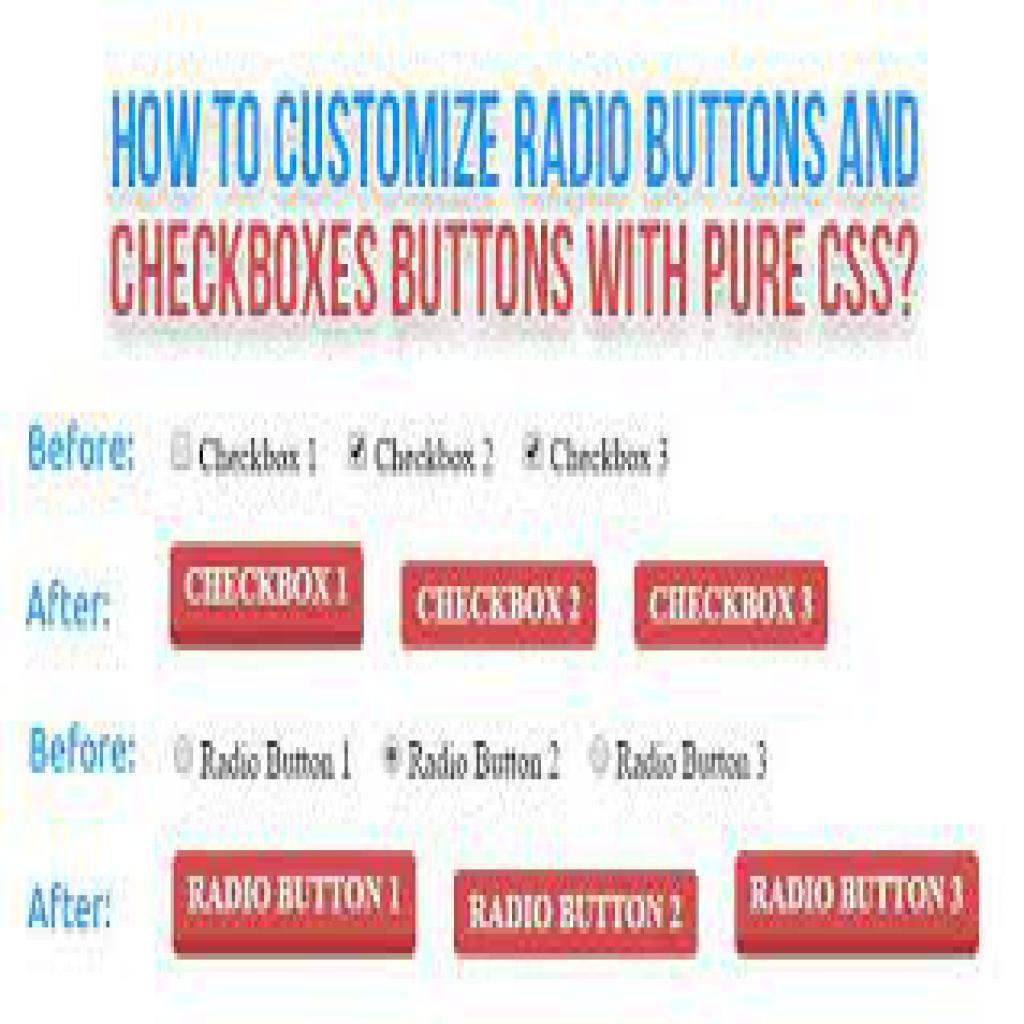button: (175, 851, 415, 959), (735, 854, 978, 956), (455, 870, 700, 955), (172, 547, 366, 649), (635, 560, 830, 651), (407, 561, 598, 650)
checkbox: (170, 428, 197, 473), (348, 429, 370, 475), (521, 432, 546, 471)
label: (618, 737, 775, 786), (198, 737, 353, 786), (407, 738, 563, 785), (198, 431, 324, 479), (377, 435, 500, 480), (548, 435, 675, 476)
radio: (380, 731, 406, 781), (172, 734, 196, 779), (590, 737, 614, 778)
